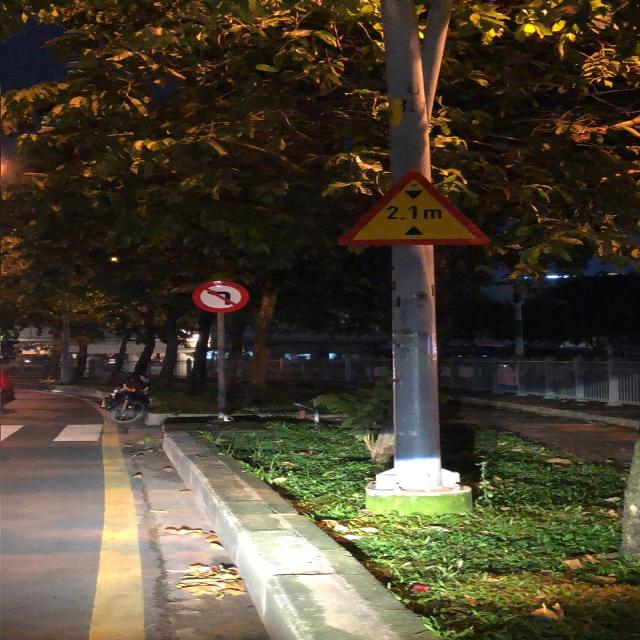Bien bao cam re trai: (186, 275, 253, 314)
Bien bao chieu cao tinh khong thuc te: (332, 166, 500, 250)
